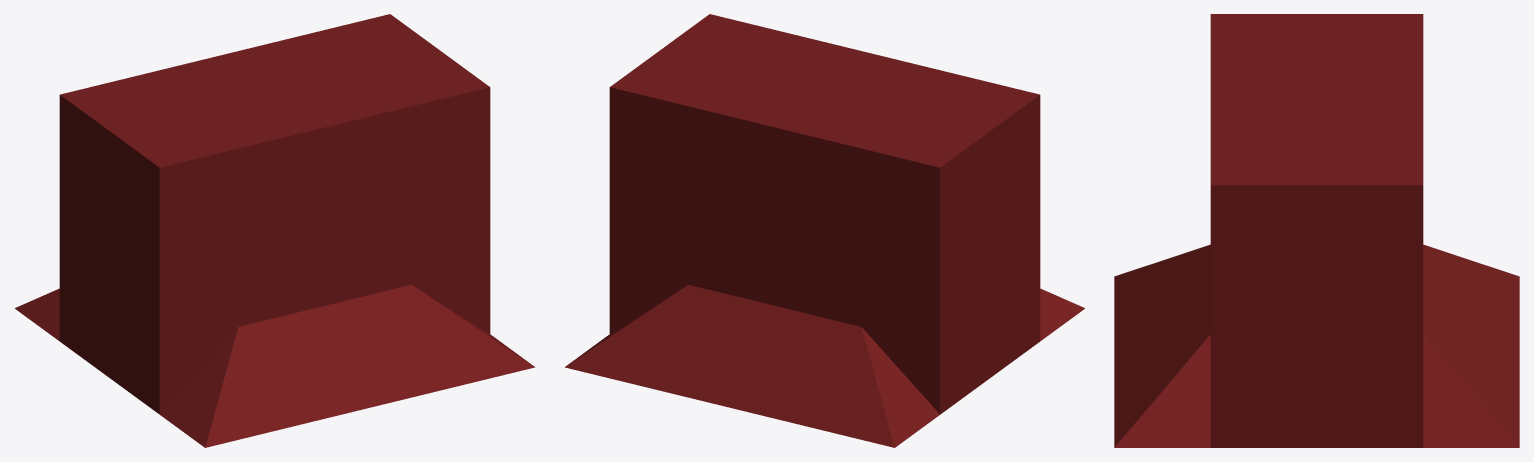
File: void-station__heart.obj
3 renders of one model, left to right at view 1: azimuth 30°, elevation 25°; view 2: azimuth 150°, elevation 25°; view 3: azimuth 270°, elevation 25°, orthographic. The views are drawn at different scales.
Visible parts, largest first — view 1: heart; view 2: heart; view 3: heart.
Part boxes in pixels (<box>): heart: <box>15,14,534,447</box>; heart: <box>565,14,1084,447</box>; heart: <box>1114,14,1519,447</box>.
Size of the model in its own units: 0.84 by 0.6 by 0.84.
